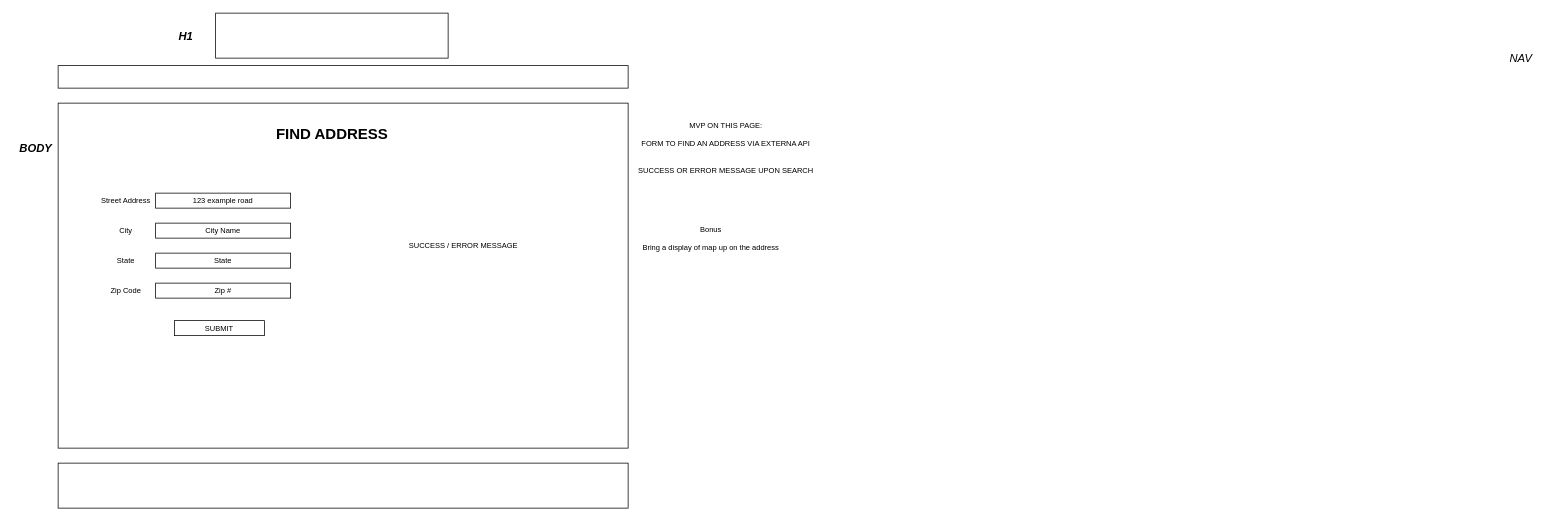
This 1552x521 diagram has some shape labels left out. Here are the shapes that lost their labels. From the top down, the box of each, then its label:
(215, 12, 448, 58): PCG TECHNOLOGY LAB
(57, 65, 628, 88): TODO Address Lookup NYSE Ticker
(57, 462, 628, 508): FOOTER (Filler information)
